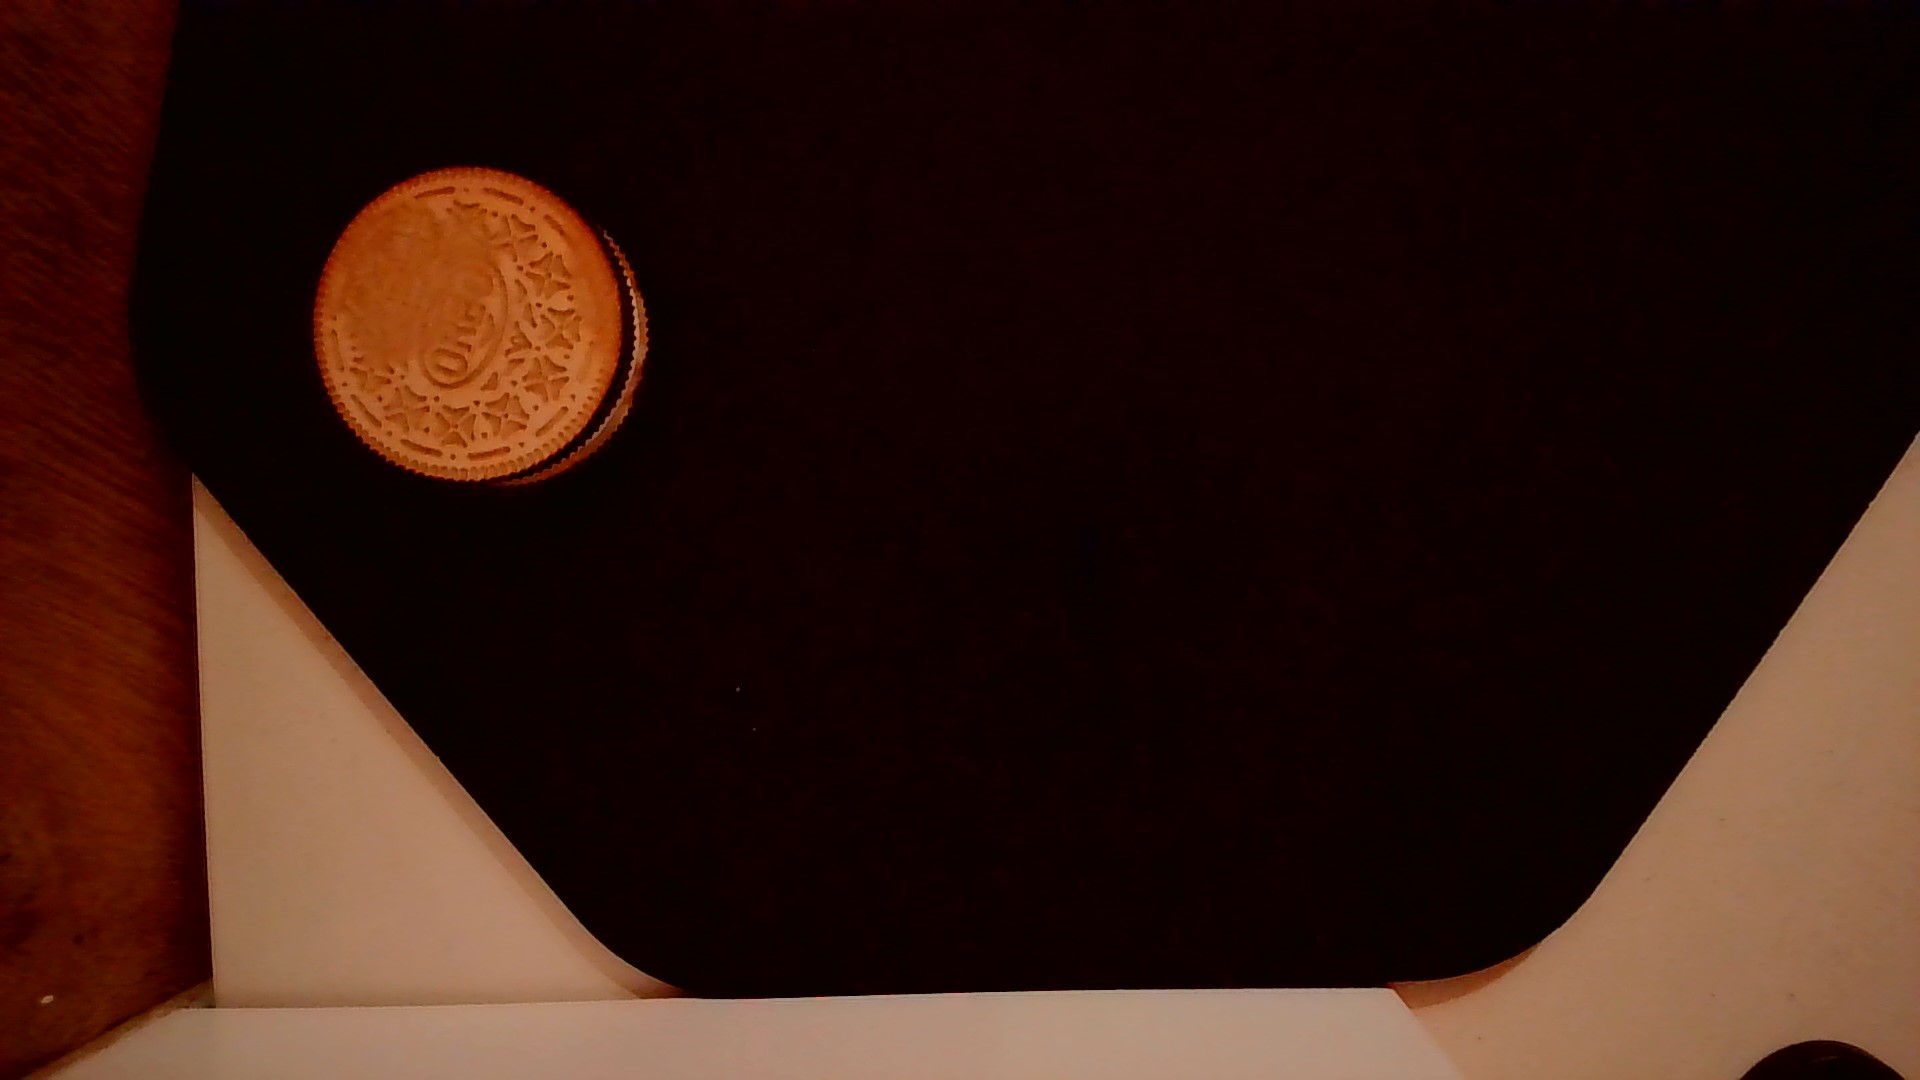Effacé: (315, 175, 498, 378), (559, 210, 630, 356)
Oréo: (309, 157, 655, 498)
